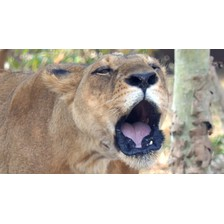lion: (16, 50, 172, 172)
